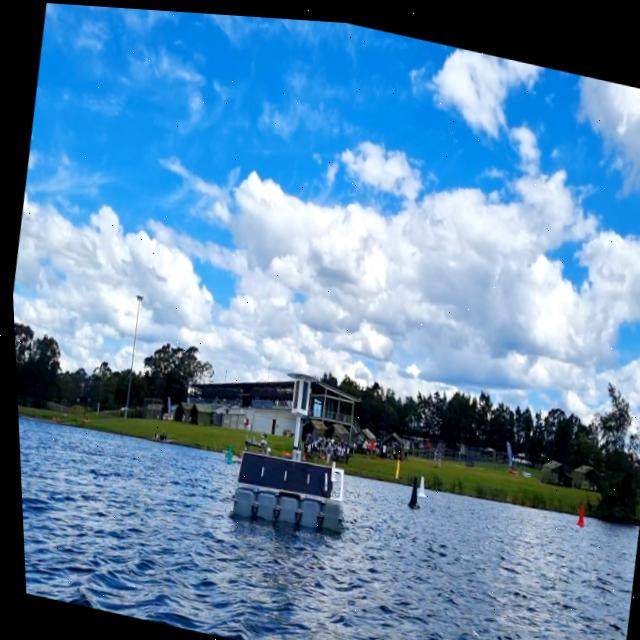led: (288, 374, 309, 409), (294, 375, 307, 409), (287, 375, 298, 408)
